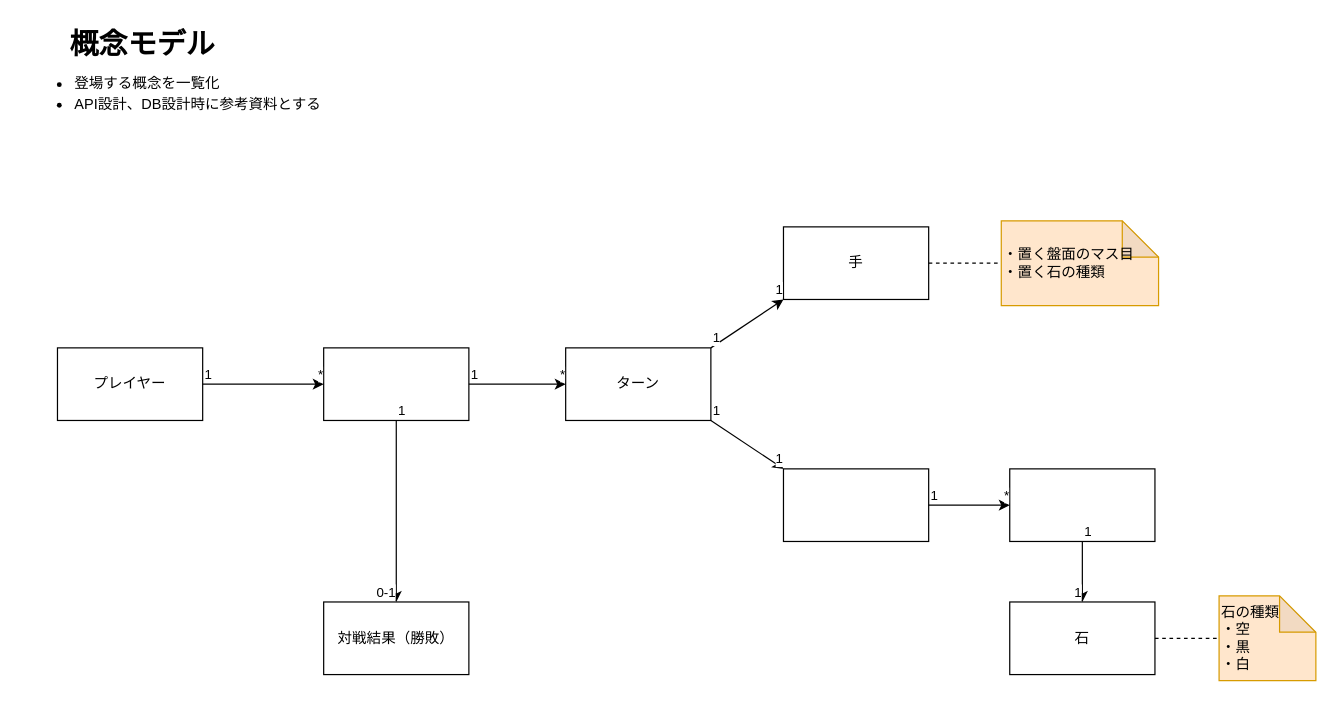
This 1337x702 diagram has some shape labels left out. Each missing label, with the box of its shape:
マス目: (1009, 468, 1155, 541)
対戦（開始）: (322, 347, 469, 420)
盤面: (782, 468, 929, 541)
